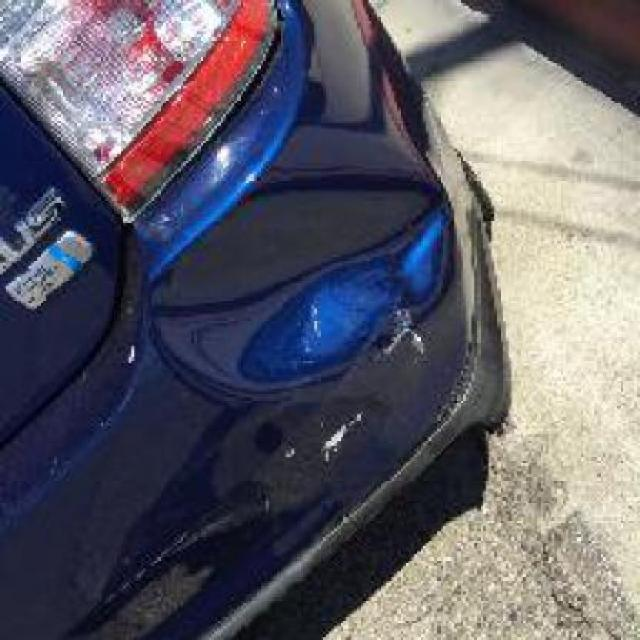dent-or-scratch: (147, 158, 447, 379)
